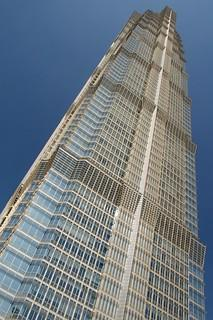building: (3, 4, 209, 320)
